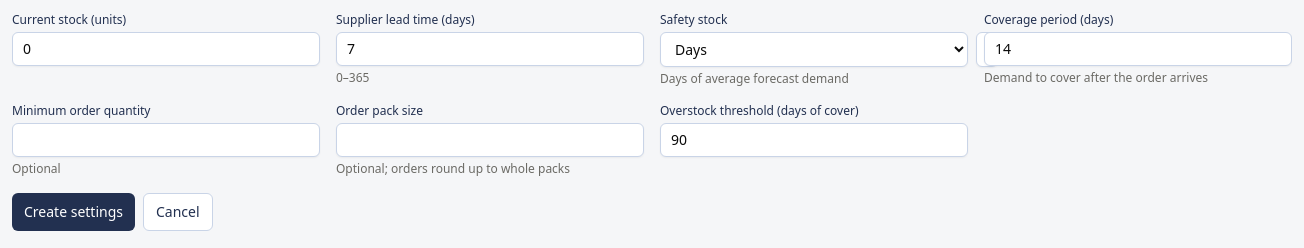
Test case: InventoryForm › rejects a zero pack size and a fractional lead time
The width and height of the screenshot is (1304, 248).
Type "0" into the field labelled "Order pack size".
click(490, 140); type("0")  # box [336,123,644,157]
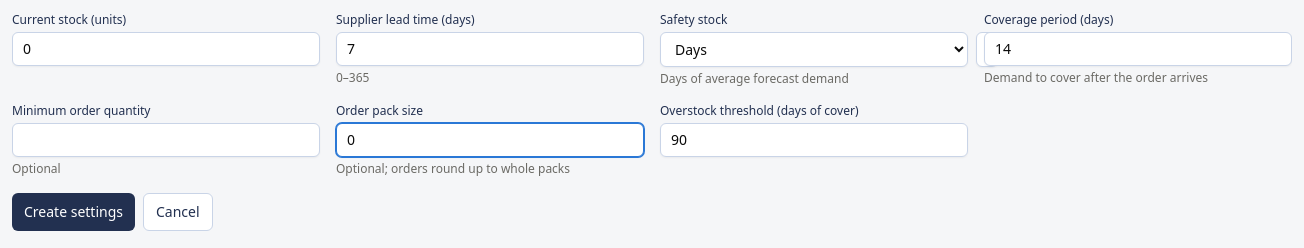
Replace the text in the field labelled "Supplier lead time (days)" with "2.5" at point(490, 49), box [336,32,644,66]
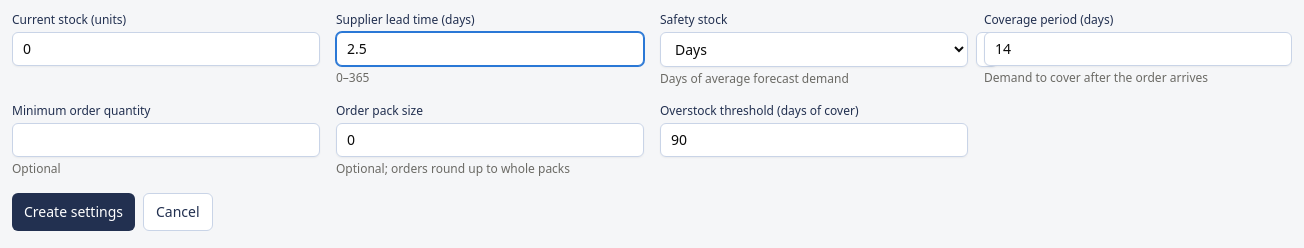
Click the button "Create settings".
click(74, 212)  # box [12,193,135,231]
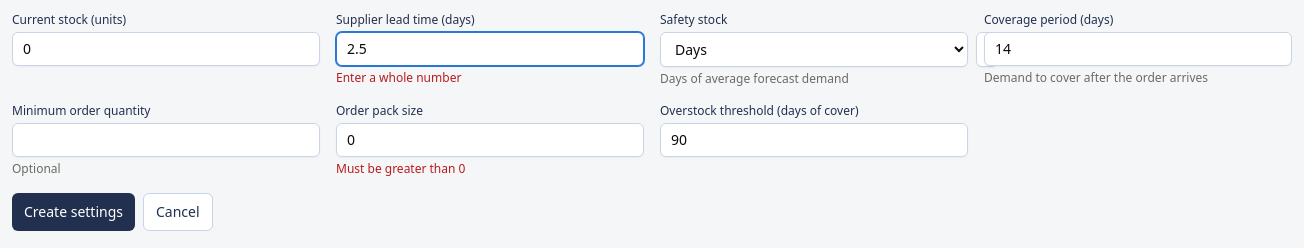
expect the text "Must be greater than 0" is shown: met, box [336,160,465,177]
expect the text "Enter a whole number" is shown: met, box [336,69,461,86]
